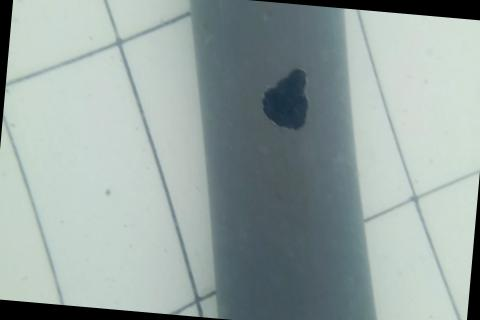kebocoran: (259, 62, 313, 135)
